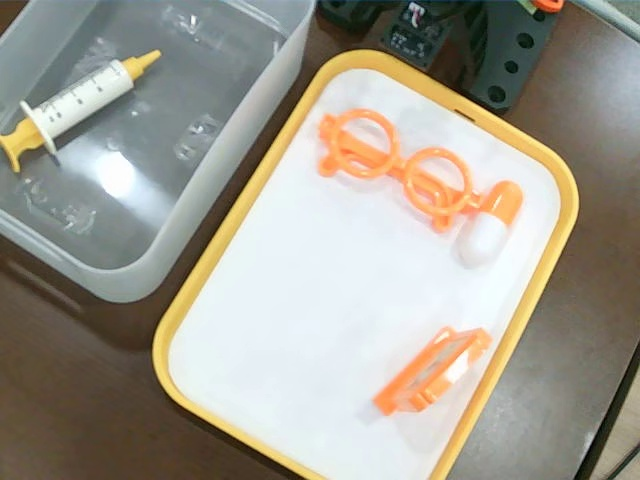pill: (461, 180, 525, 267)
syringe: (0, 48, 163, 173)
